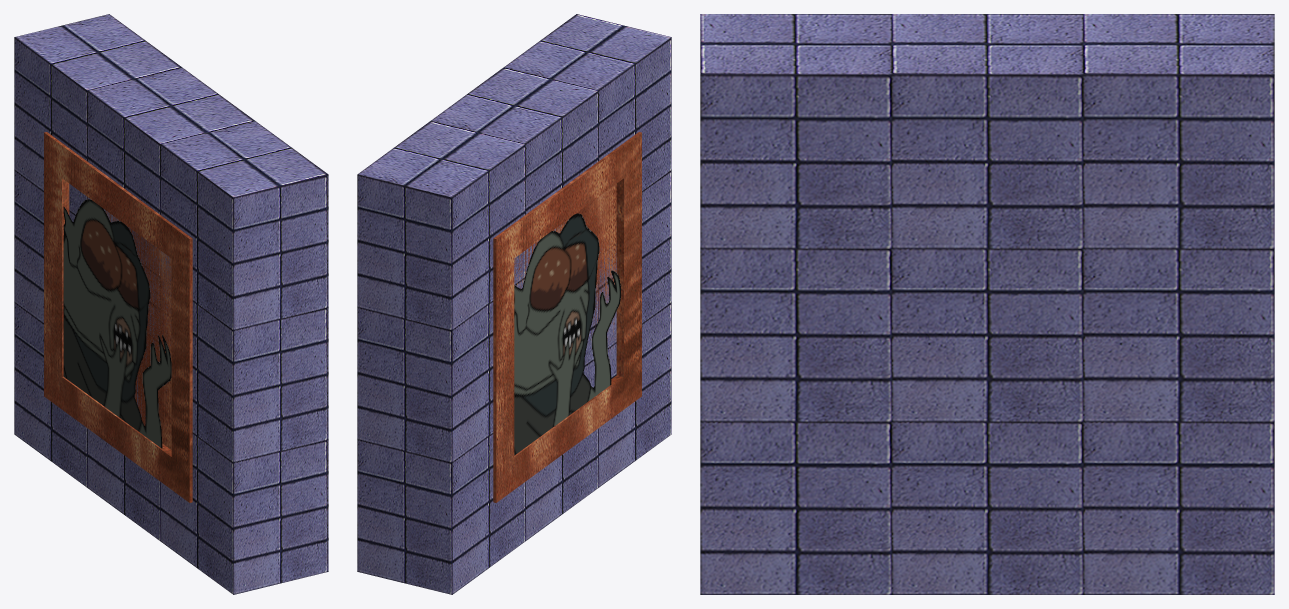
Rendered from Tile_Painting.fbx.
The picture shows the model from 3 angles, left to right: view 1: azimuth 30°, elevation 25°; view 2: azimuth 150°, elevation 25°; view 3: azimuth 270°, elevation 25°; orthographic projection. The views are drawn at different scales.
Parts seen in each view (by area): view 1: Painting_Mesh; view 2: Painting_Mesh; view 3: Painting_Mesh.
Part boxes in pixels (left/top/right/bottom): Painting_Mesh: left=14, top=14, right=328, bottom=594; Painting_Mesh: left=357, top=14, right=671, bottom=594; Painting_Mesh: left=700, top=14, right=1274, bottom=594.
Bounding box in the file's own units: 107 × 400 × 400.
